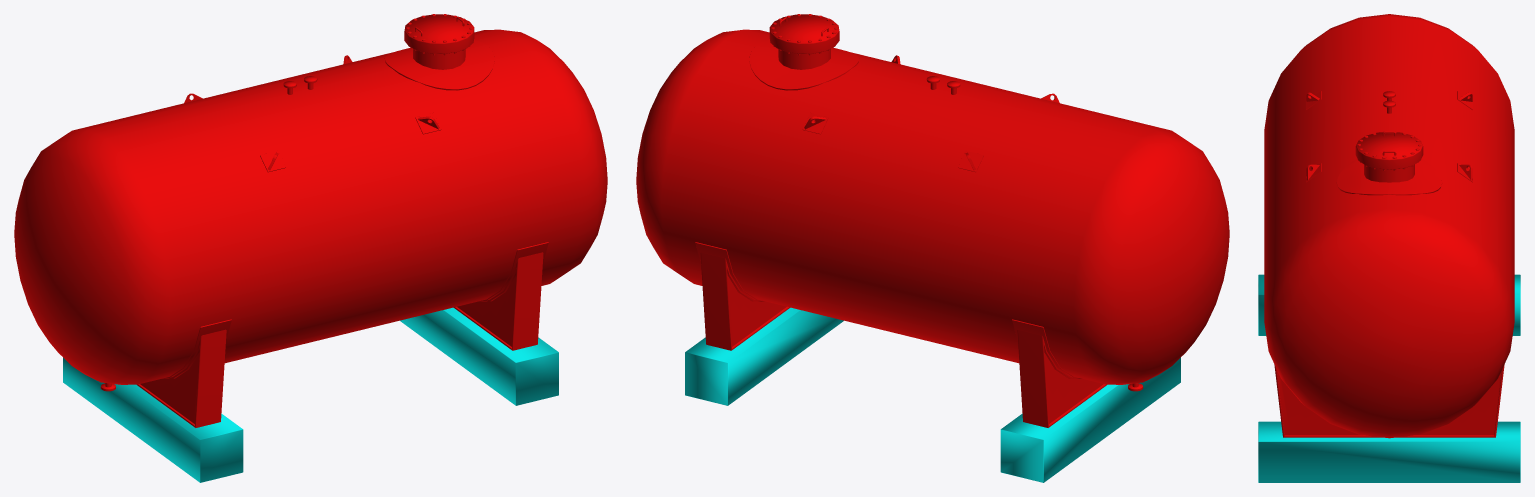
Rendered from GasTank.fbx.
The picture shows the model from 3 angles, left to right: view 1: azimuth 30°, elevation 25°; view 2: azimuth 150°, elevation 25°; view 3: azimuth 270°, elevation 25°; orthographic projection. The views are drawn at different scales.
Parts seen in each view (by area): view 1: FuelTank; view 2: FuelTank; view 3: FuelTank.
Boxes of the visible parts, x1,y1,x2,y2 form: FuelTank: (14,14,607,482); FuelTank: (636,14,1229,482); FuelTank: (1258,14,1520,482).
Size of the model in its own units: 758 by 447 by 334.
